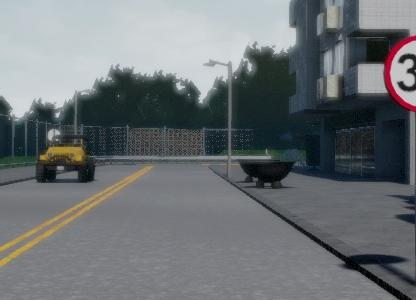Speed_30: (383, 32, 416, 115)
